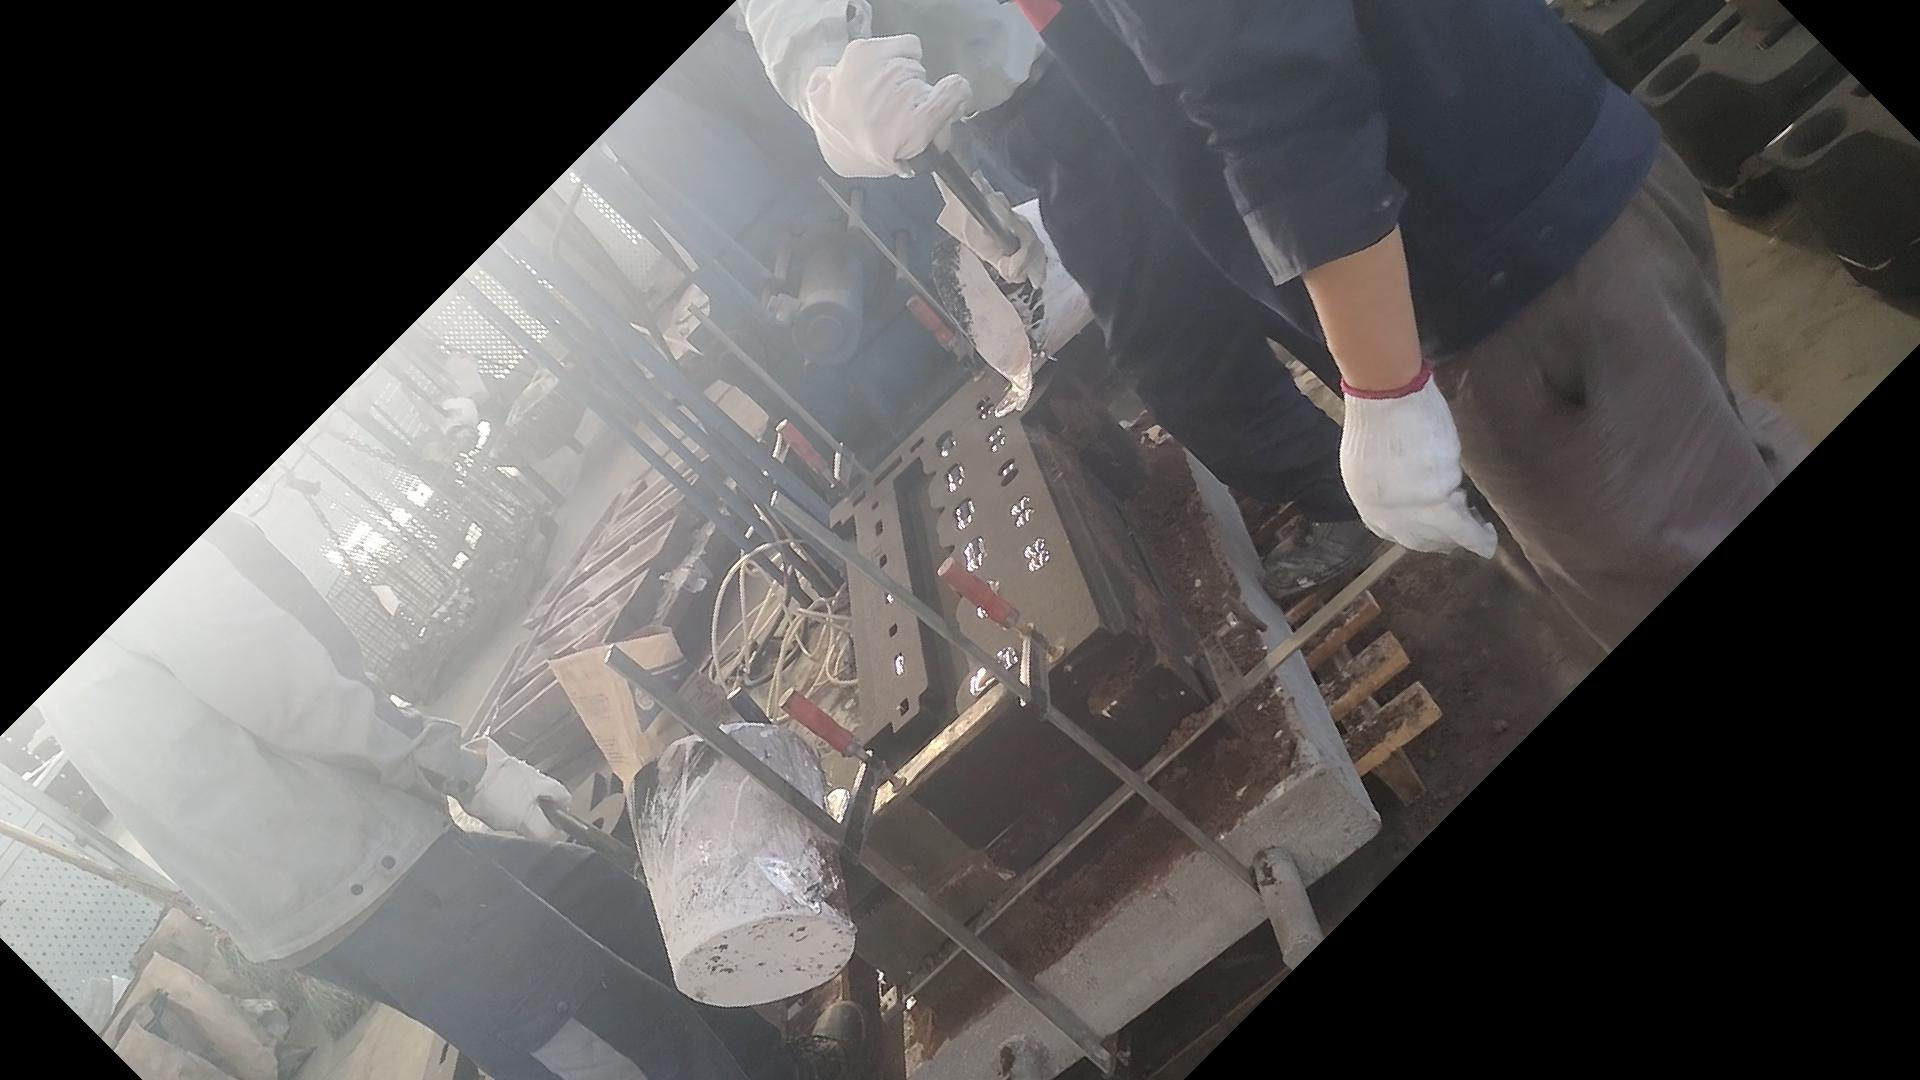pouring hole: (1779, 104, 1847, 160), (1644, 51, 1702, 100), (815, 786, 851, 828), (570, 816, 607, 848), (998, 380, 1031, 413), (1539, 3, 1567, 26)
